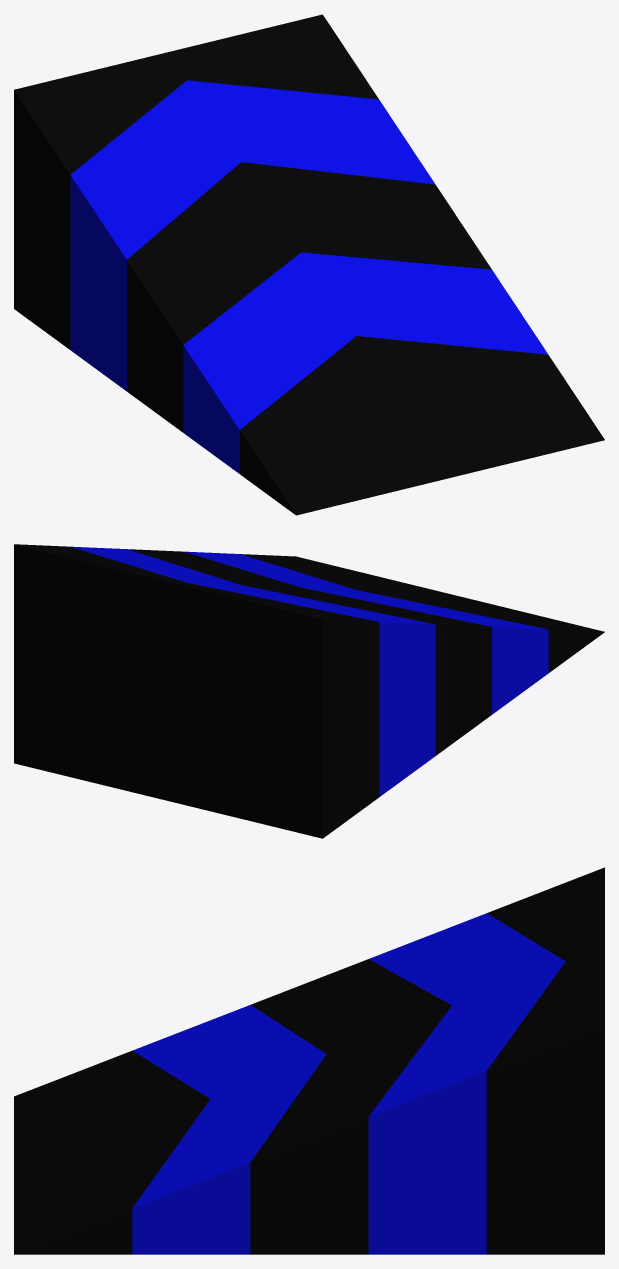
Rendered from Ramp2.fbx.
The picture shows the model from 3 angles, top to bottom: view 1: azimuth 30°, elevation 25°; view 2: azimuth 150°, elevation 25°; view 3: azimuth 270°, elevation 25°; orthographic projection. The views are drawn at different scales.
Visible parts, largest first — view 1: Rampa; view 2: Rampa; view 3: Rampa.
Part boxes in pixels (box(x1,y1,x2,y2)): Rampa: box(14, 14, 604, 515); Rampa: box(14, 544, 604, 838); Rampa: box(14, 867, 604, 1254).
Bounding box in the file's own units: 126 × 85.71 × 200.
